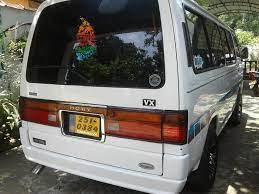van: (19, 0, 246, 182)
